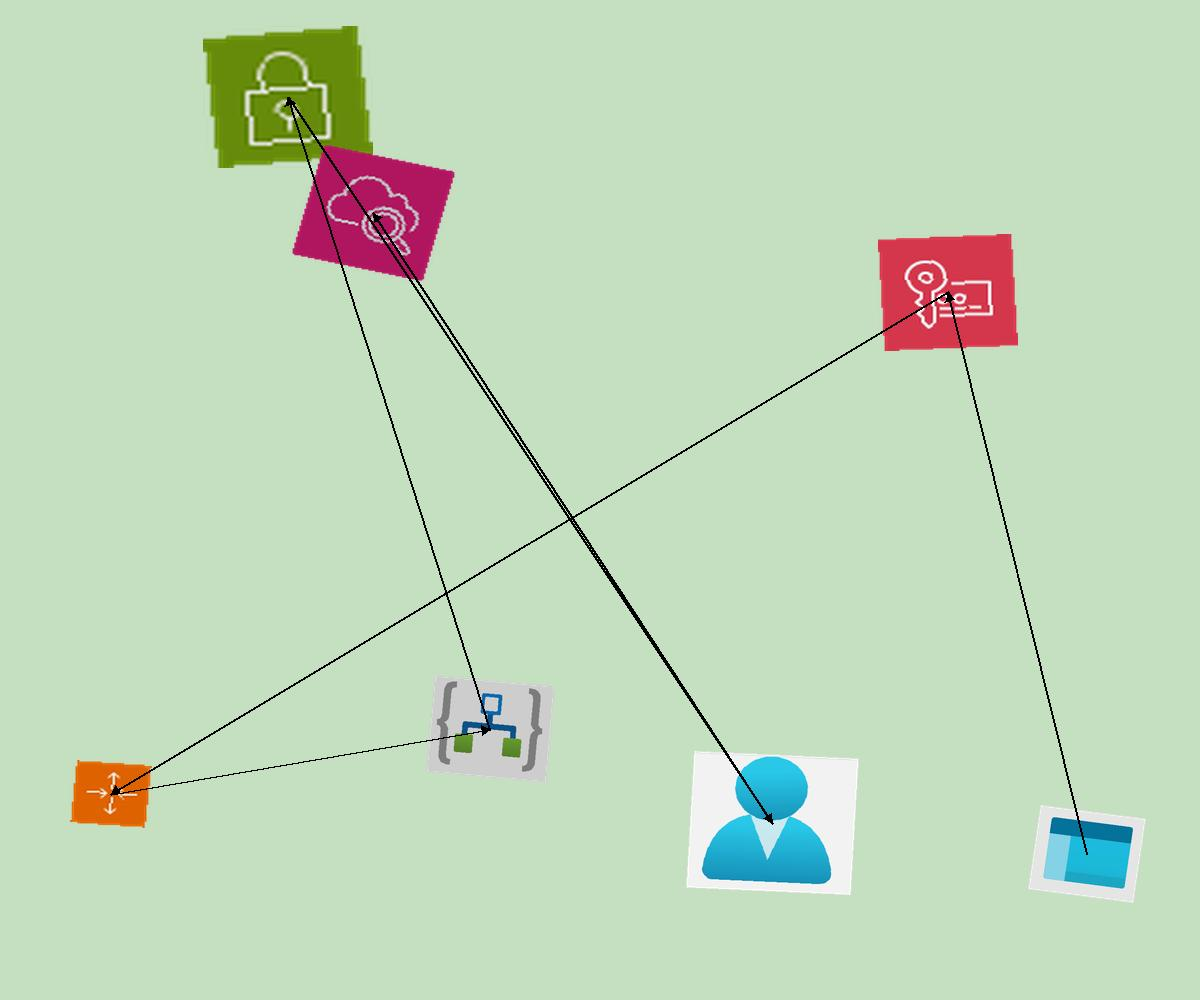AWS-CloudWatch: (291, 144, 456, 282)
AWS-Key-Management-Service: (878, 234, 1018, 351)
AWS-Public-subnet: (203, 26, 373, 168)
AWS-Scaling-group: (70, 760, 152, 828)
Azure_integration-204-Logic-Apps: (426, 675, 555, 783)
Azure_management-portal: (1028, 805, 1146, 903)
Azure_users: (686, 751, 859, 895)
